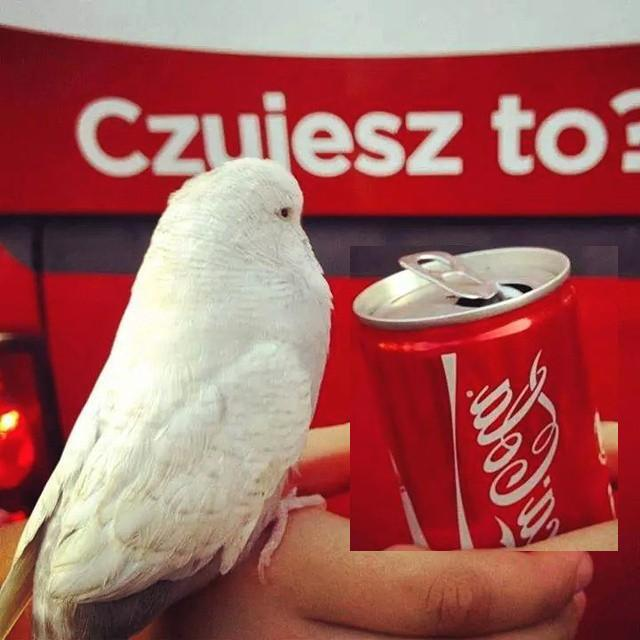coca-cola: (350, 246, 618, 551)
